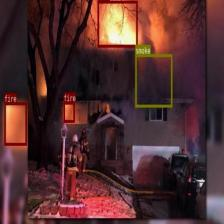fire: (97, 1, 137, 46), (4, 102, 26, 145), (64, 101, 75, 122)
smoke: (135, 54, 172, 107)
